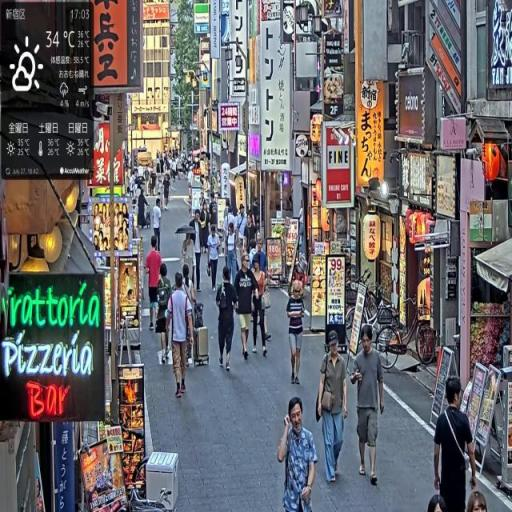person: (431, 375, 477, 512), (351, 325, 386, 487), (315, 332, 350, 486), (277, 395, 319, 512), (167, 273, 194, 400), (235, 249, 259, 366), (216, 265, 240, 372), (252, 252, 273, 359), (288, 280, 309, 387), (146, 237, 164, 338), (208, 224, 222, 296), (152, 197, 164, 255)
